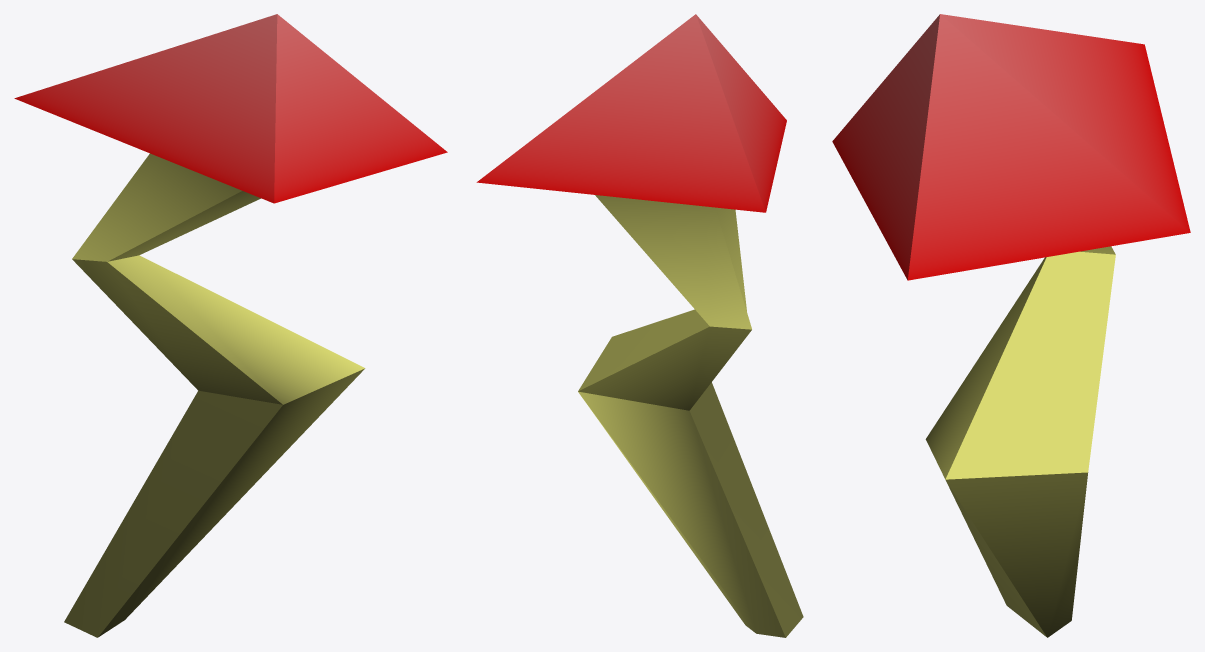
Rendered from c_roof_chimney_ac.fbx.
3 views of the same model, side by side, from view 1: azimuth 30°, elevation 25°; view 2: azimuth 150°, elevation 25°; view 3: azimuth 270°, elevation 25° (orthographic). The views are drawn at different scales.
Visible parts, largest first — view 1: c_roof_chimney_ac; view 2: c_roof_chimney_ac; view 3: c_roof_chimney_ac.
Boxes of the visible parts, box(x1,y1,x2,y2) form: c_roof_chimney_ac: box(14, 14, 447, 637); c_roof_chimney_ac: box(476, 14, 803, 637); c_roof_chimney_ac: box(832, 14, 1190, 637).
Bounding box in the file's own units: 0.8343 × 1.51 × 0.7195.
